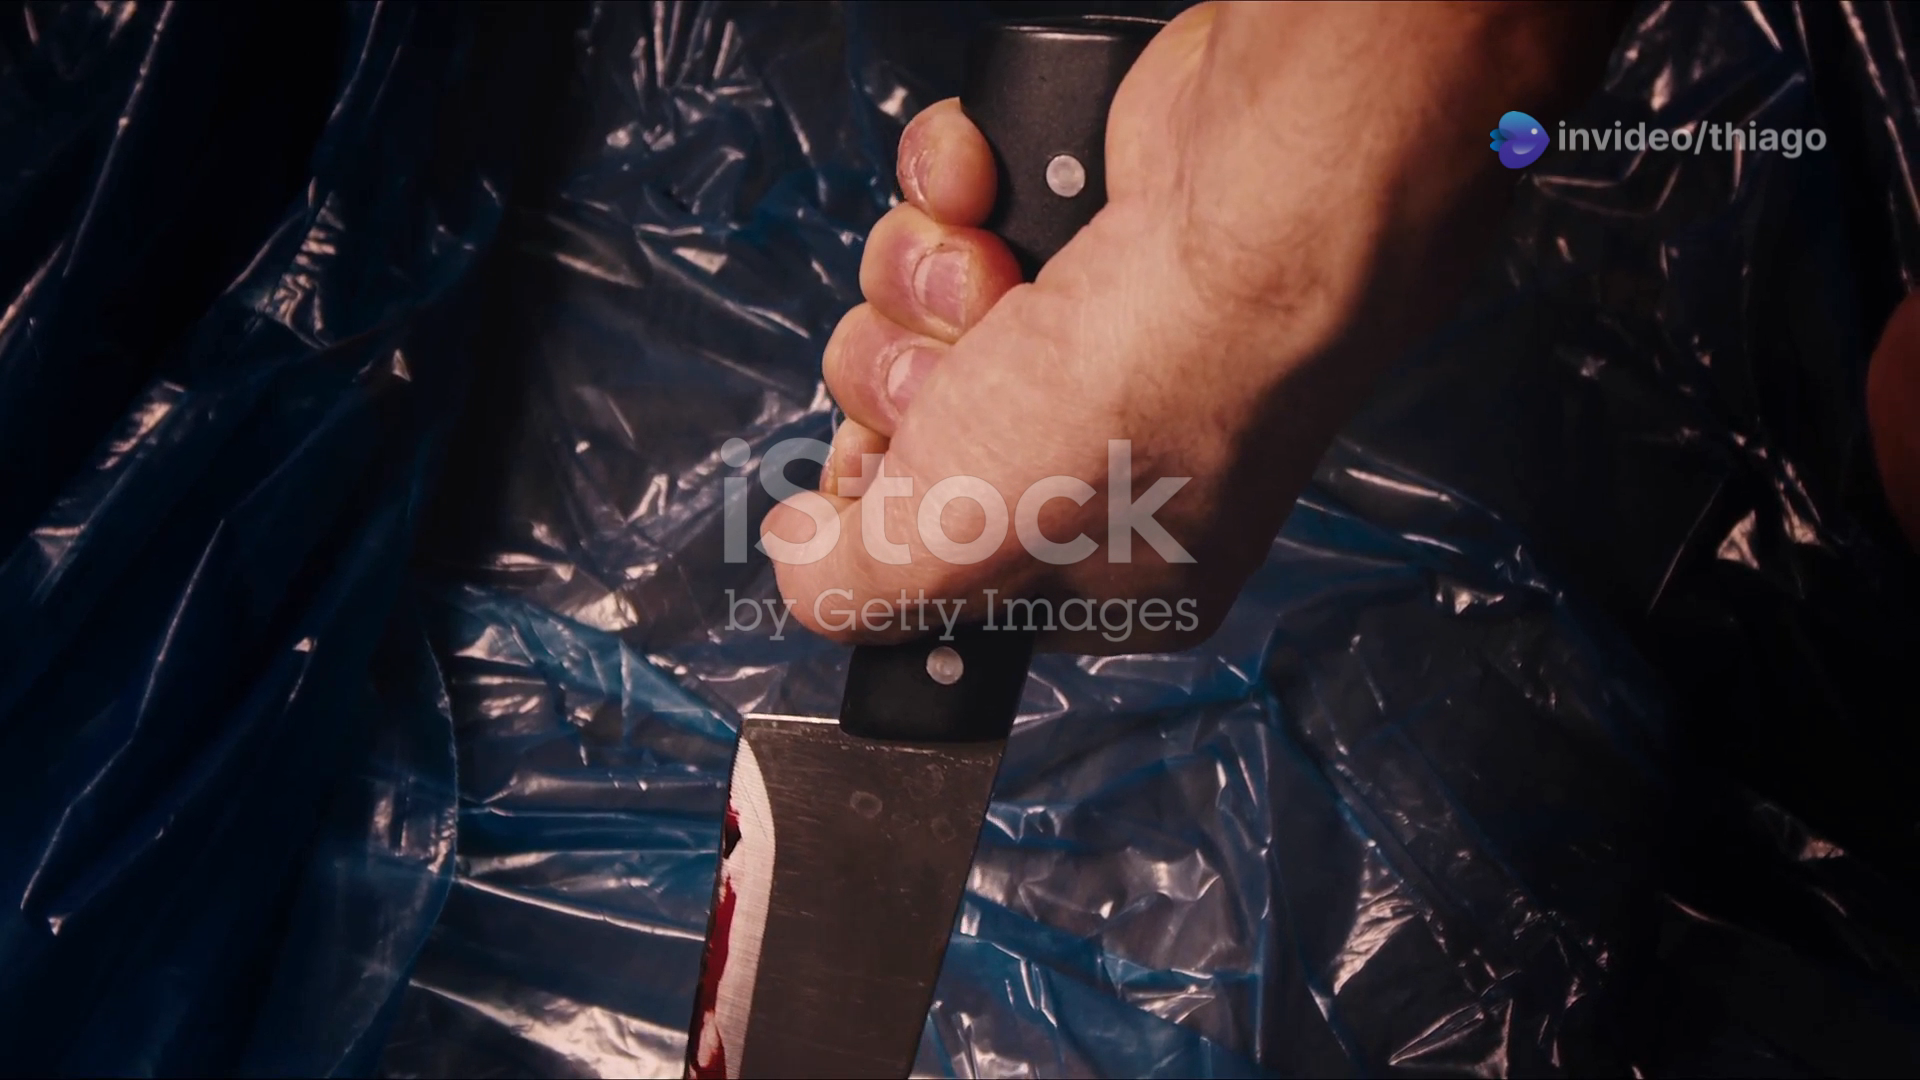cortante: (675, 712, 1010, 1080)
